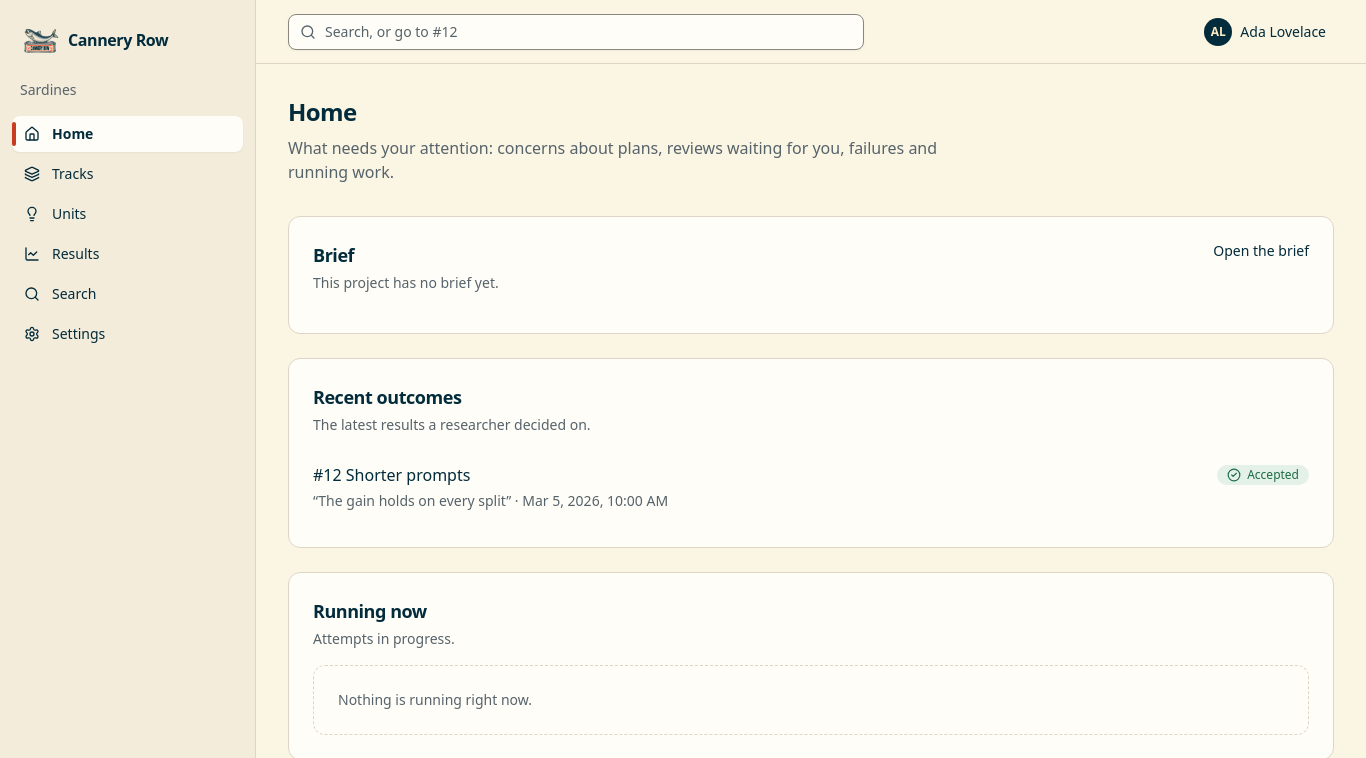
Test case: a viewer finds an outcome and its reason in three clicks › from Home: the recent outcome, then the sentence
Click the link "#12 Shorter prompts" at (392, 475), box [313,463,470,487]
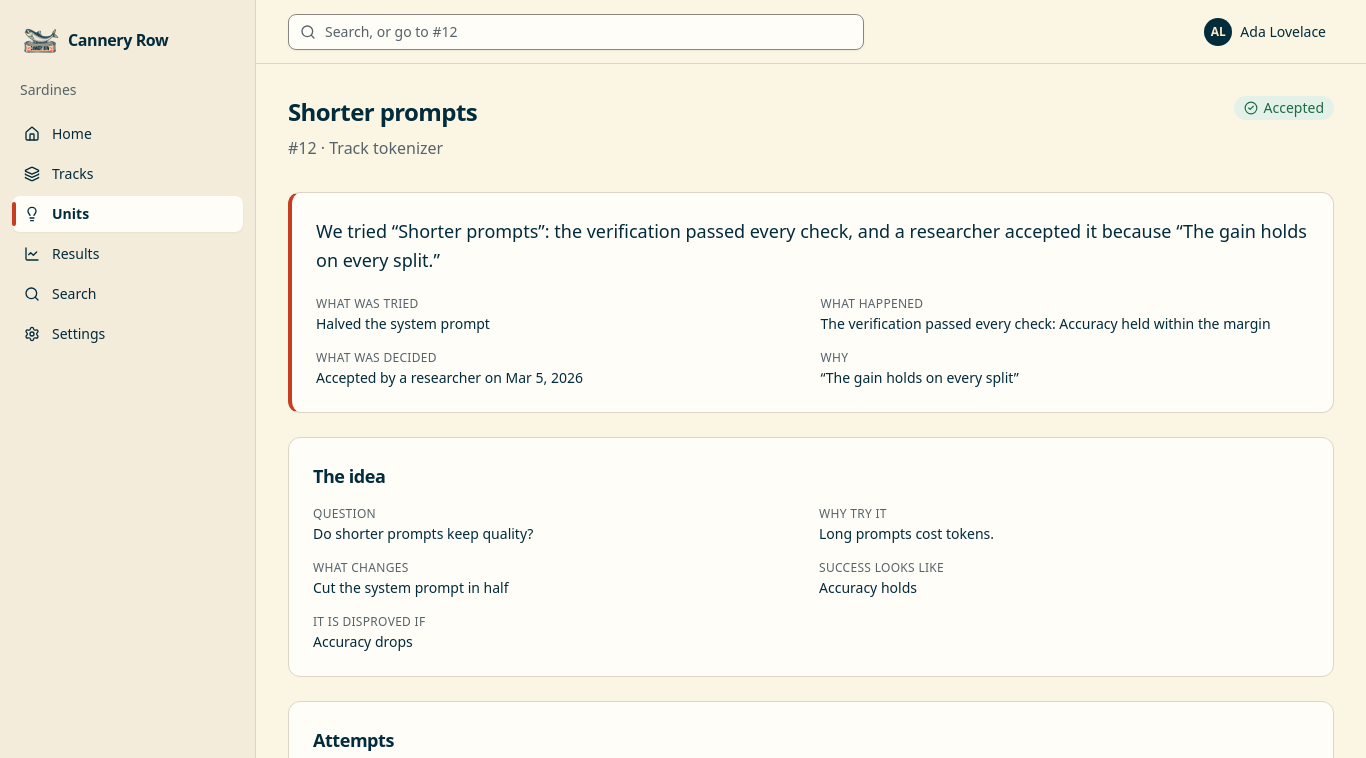
Check: the text with test id "outcome-sentence" shows "We tried “Shorter prompts”: the verification passed every check, and a researcher accepted it because “The gain holds on every split.”", box [316,219,1307,272]
